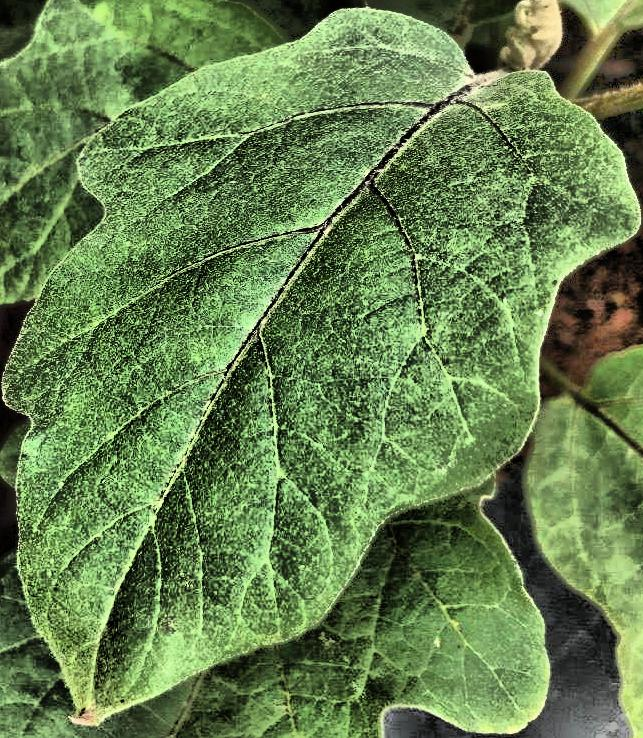HEALTHY: (1, 1, 643, 738)
